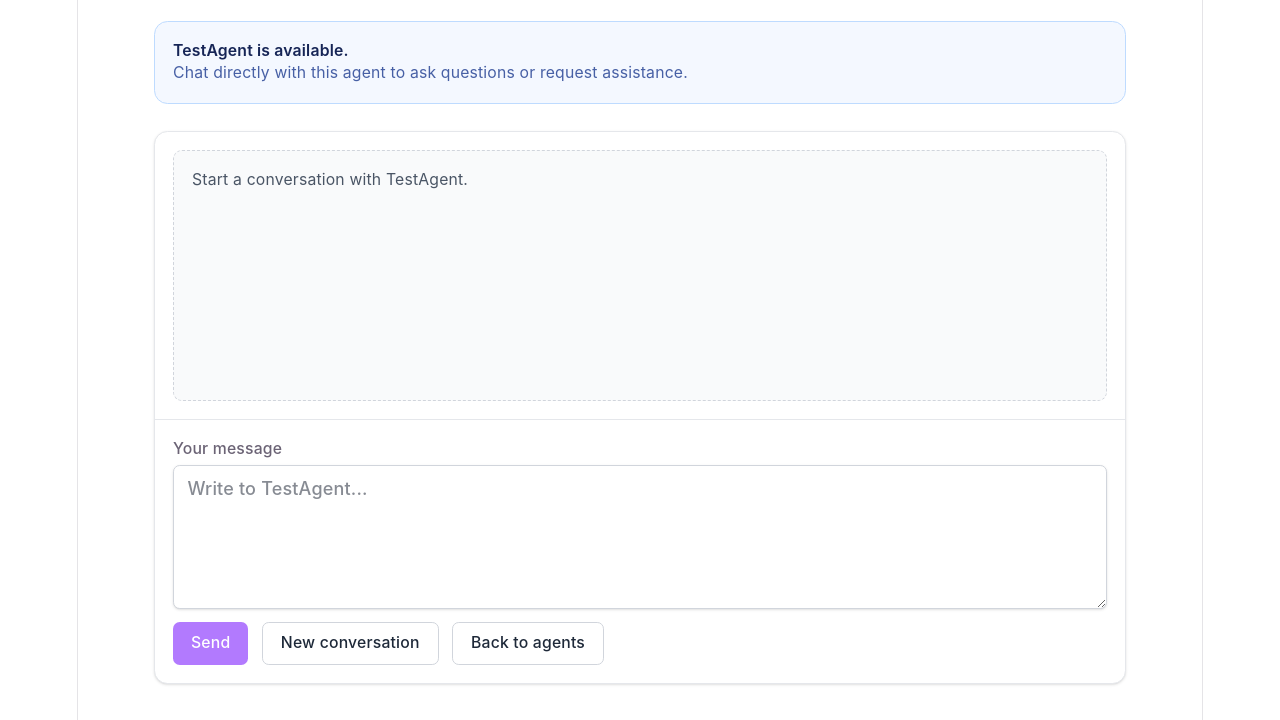
Test: AgentChatPage › disables send button while sending
This screenshot has width=1280, height=720.
(page scrolled)
Type "Test" into the text box labelled "Your message".
click(640, 537); type("Test")  # box [173,465,1107,609]
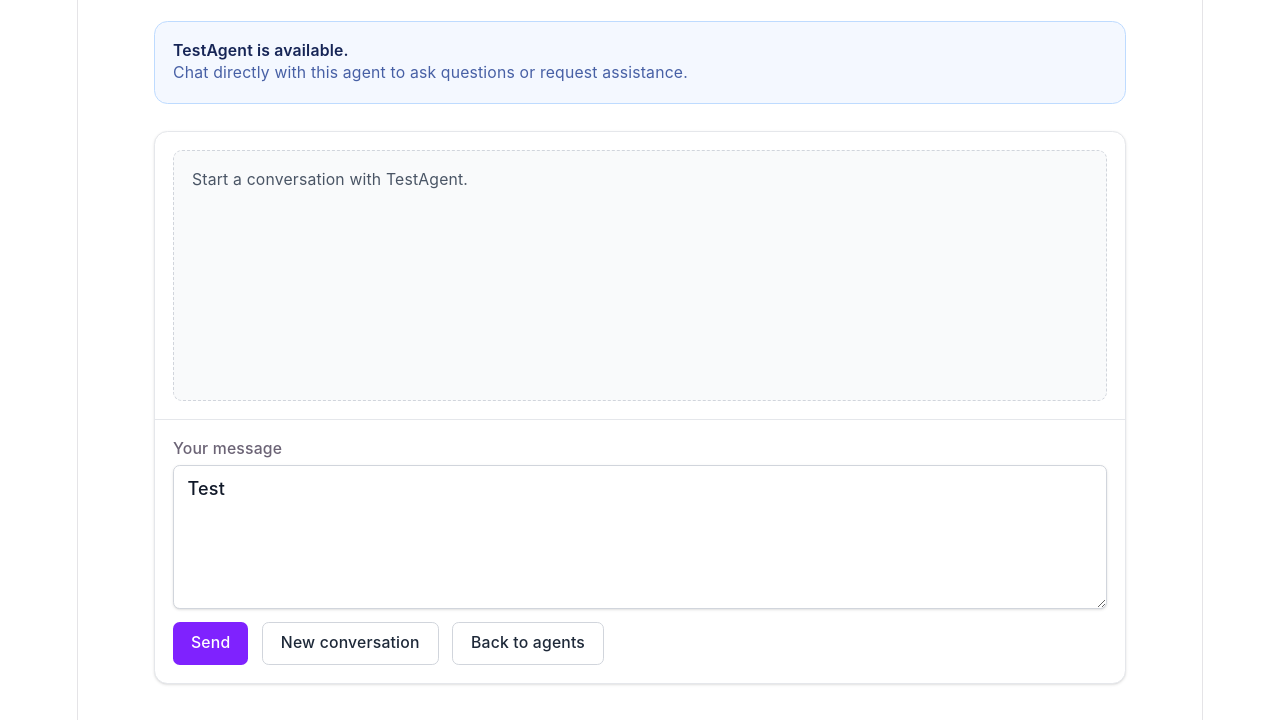
Click the button "Send".
click(211, 643)  # box [173,622,248,665]
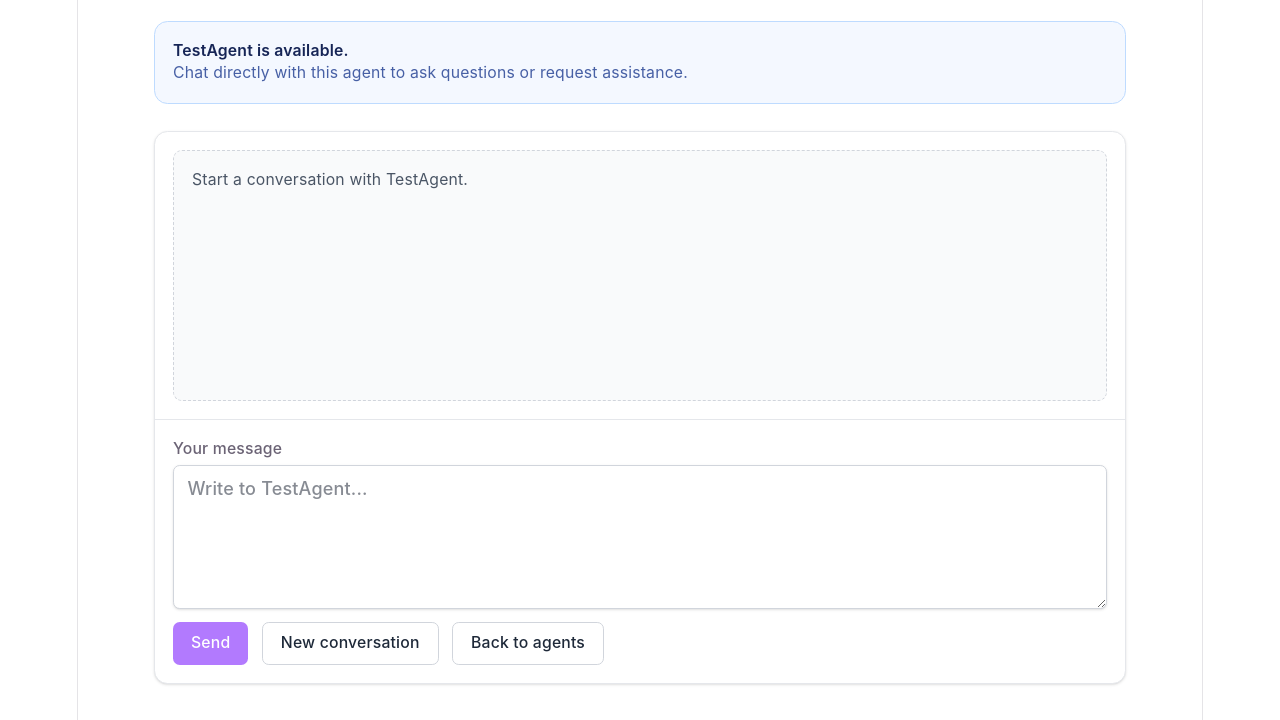
expect the button "Send" is disabled: met, box [173,622,248,665]
